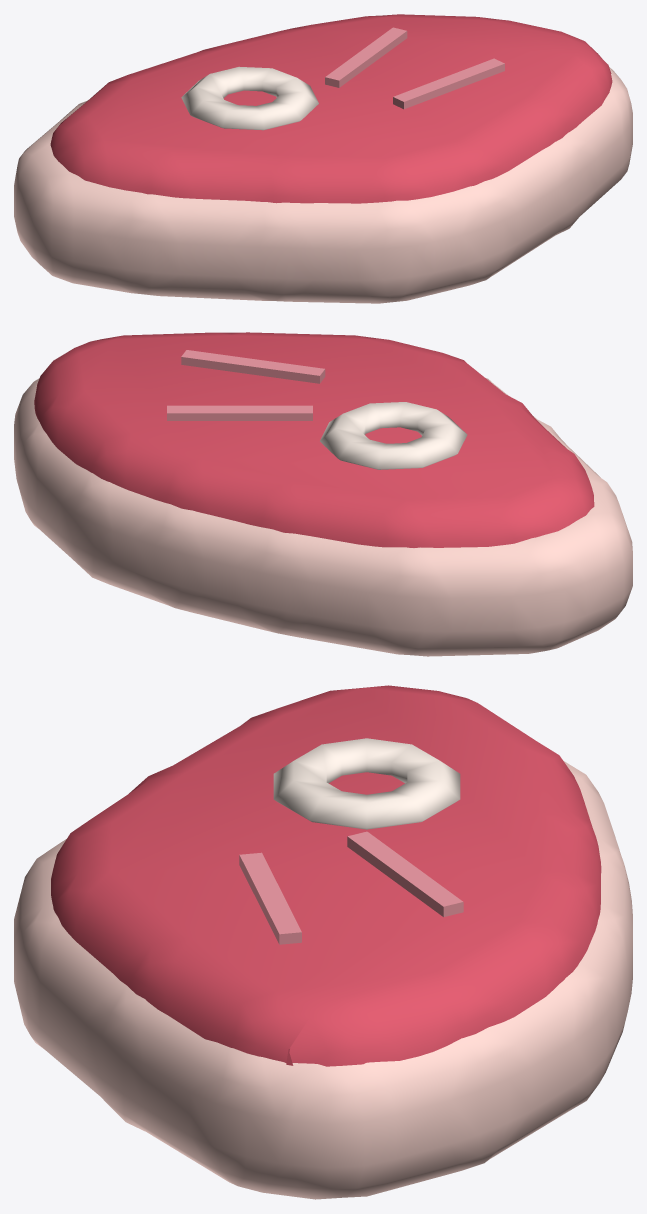
File: meat.glb
3 renders of one model, top to bottom at view 1: azimuth 30°, elevation 25°; view 2: azimuth 150°, elevation 25°; view 3: azimuth 270°, elevation 25°, orthographic. The views are drawn at different scales.
Parts seen in each view (by area): view 1: meat; view 2: meat; view 3: meat.
Boxes of the visible parts, x1=… form: meat: x1=14, y1=14, x2=632, y2=303; meat: x1=14, y1=332, x2=632, y2=656; meat: x1=14, y1=685, x2=632, y2=1199.
Size of the model in its own units: 0.486 by 0.1211 by 0.3217.
